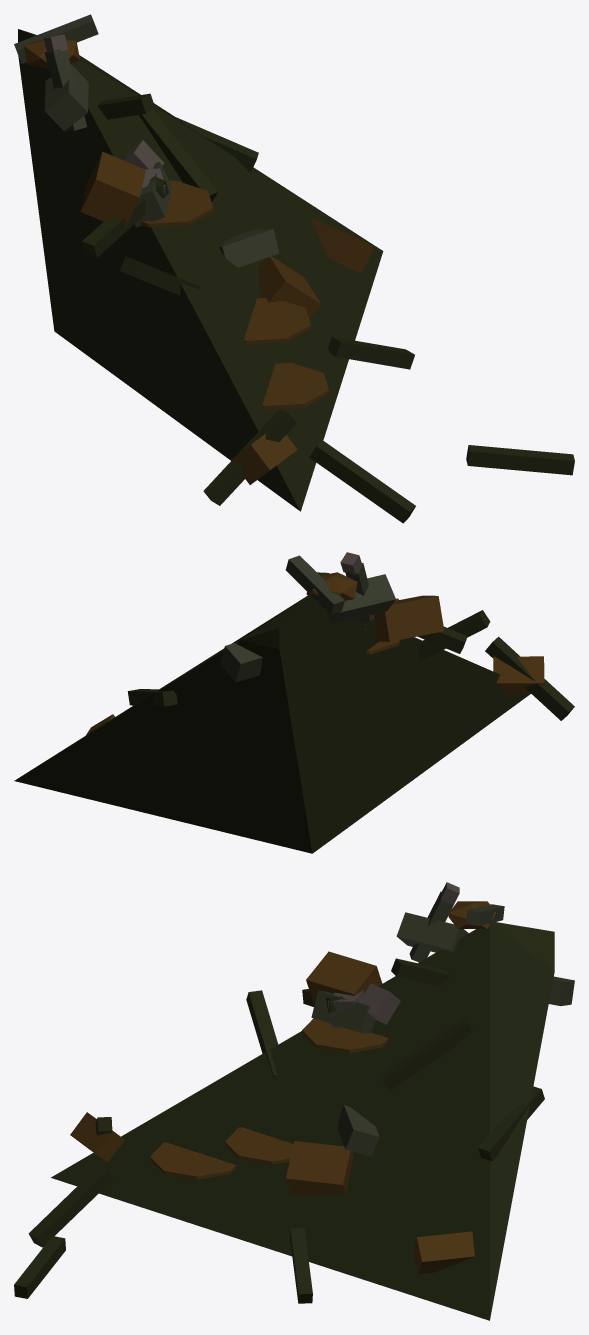
The model's file is SM_PilaZombi_RemateDer_Altura5_s1_LOD1.fbx.
3 renders of one model, top to bottom at view 1: azimuth 30°, elevation 25°; view 2: azimuth 150°, elevation 25°; view 3: azimuth 270°, elevation 25°, orthographic. The views are drawn at different scales.
Parts seen in each view (by area): view 1: SM_pila_zombis_v9_LOD1; view 2: SM_pila_zombis_v9_LOD1; view 3: SM_pila_zombis_v9_LOD1.
Part boxes in pixels (left/top/right/bottom): SM_pila_zombis_v9_LOD1: left=14, top=14, right=574, bottom=523; SM_pila_zombis_v9_LOD1: left=14, top=552, right=574, bottom=853; SM_pila_zombis_v9_LOD1: left=14, top=882, right=574, bottom=1320.
Size of the model in its own units: 3.48 by 2.88 by 4.75.
